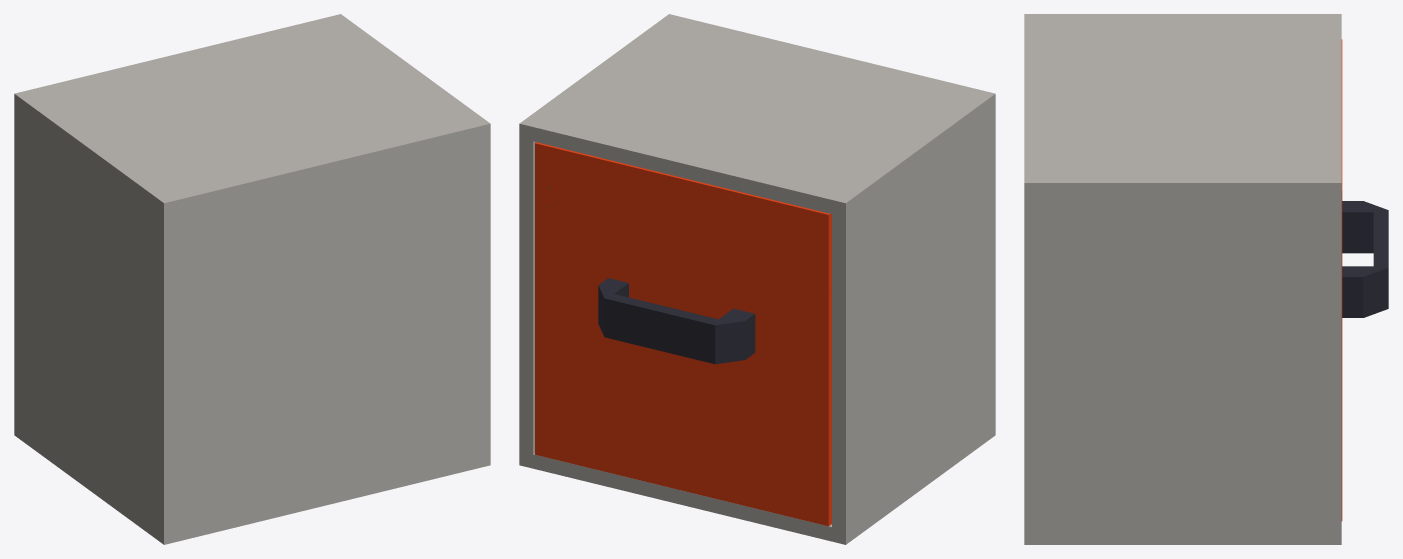
The model's file is OutsideFileCabinent.fbx.
3 views of the same model, side by side, from view 1: azimuth 30°, elevation 25°; view 2: azimuth 150°, elevation 25°; view 3: azimuth 270°, elevation 25° (orthographic). The views are drawn at different scales.
Visible parts, largest first — view 1: OutsideFileCabinent; view 2: OutsideFileCabinent, OutsideFileSlidingDraw; view 3: OutsideFileCabinent, OutsideFileSlidingDraw.
Part boxes in pixels (left/top/right/bottom): OutsideFileCabinent: left=14, top=14, right=490, bottom=544; OutsideFileCabinent: left=519, top=14, right=995, bottom=544; OutsideFileSlidingDraw: left=535, top=142, right=831, bottom=526; OutsideFileCabinent: left=1024, top=14, right=1341, bottom=544; OutsideFileSlidingDraw: left=1341, top=39, right=1388, bottom=520.
Bounding box in the file's own units: 0.5955 × 0.5955 × 0.5433.
